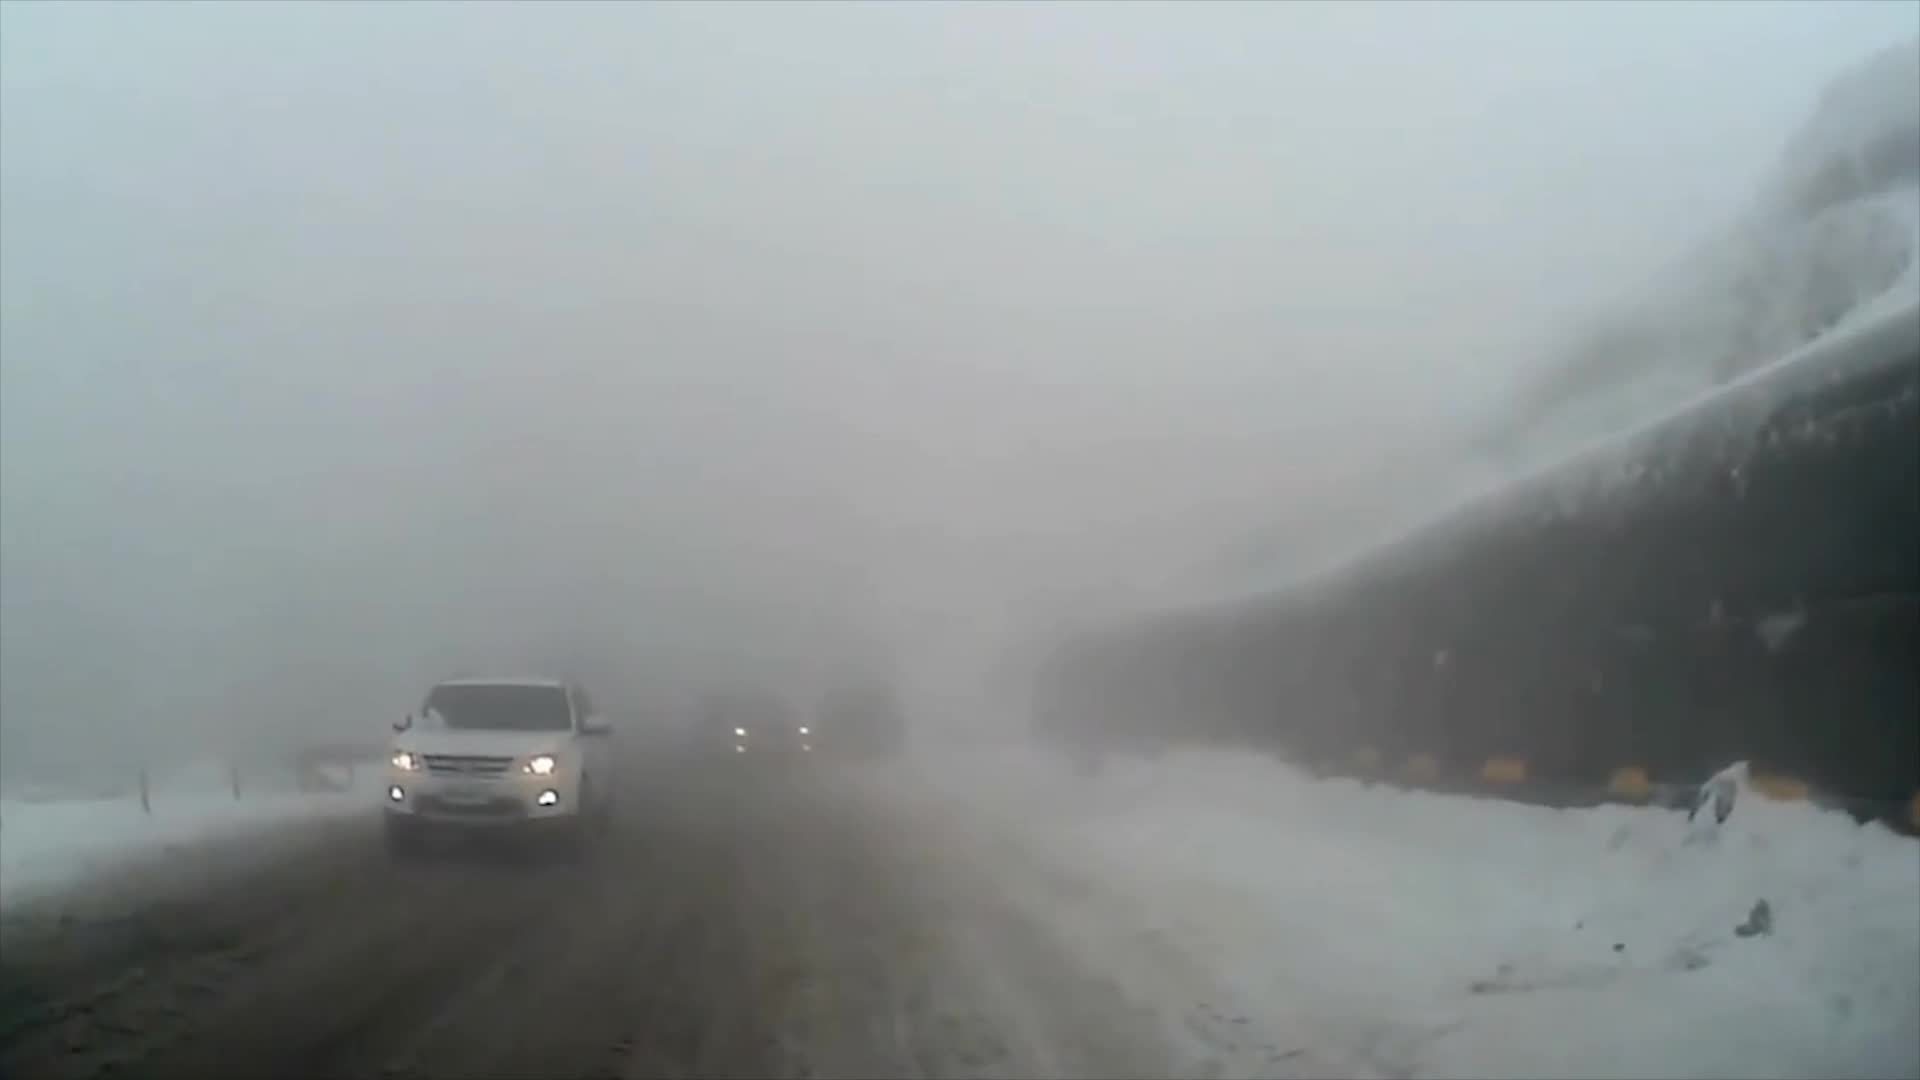vehicle: (377, 669, 617, 857), (688, 692, 815, 787)
